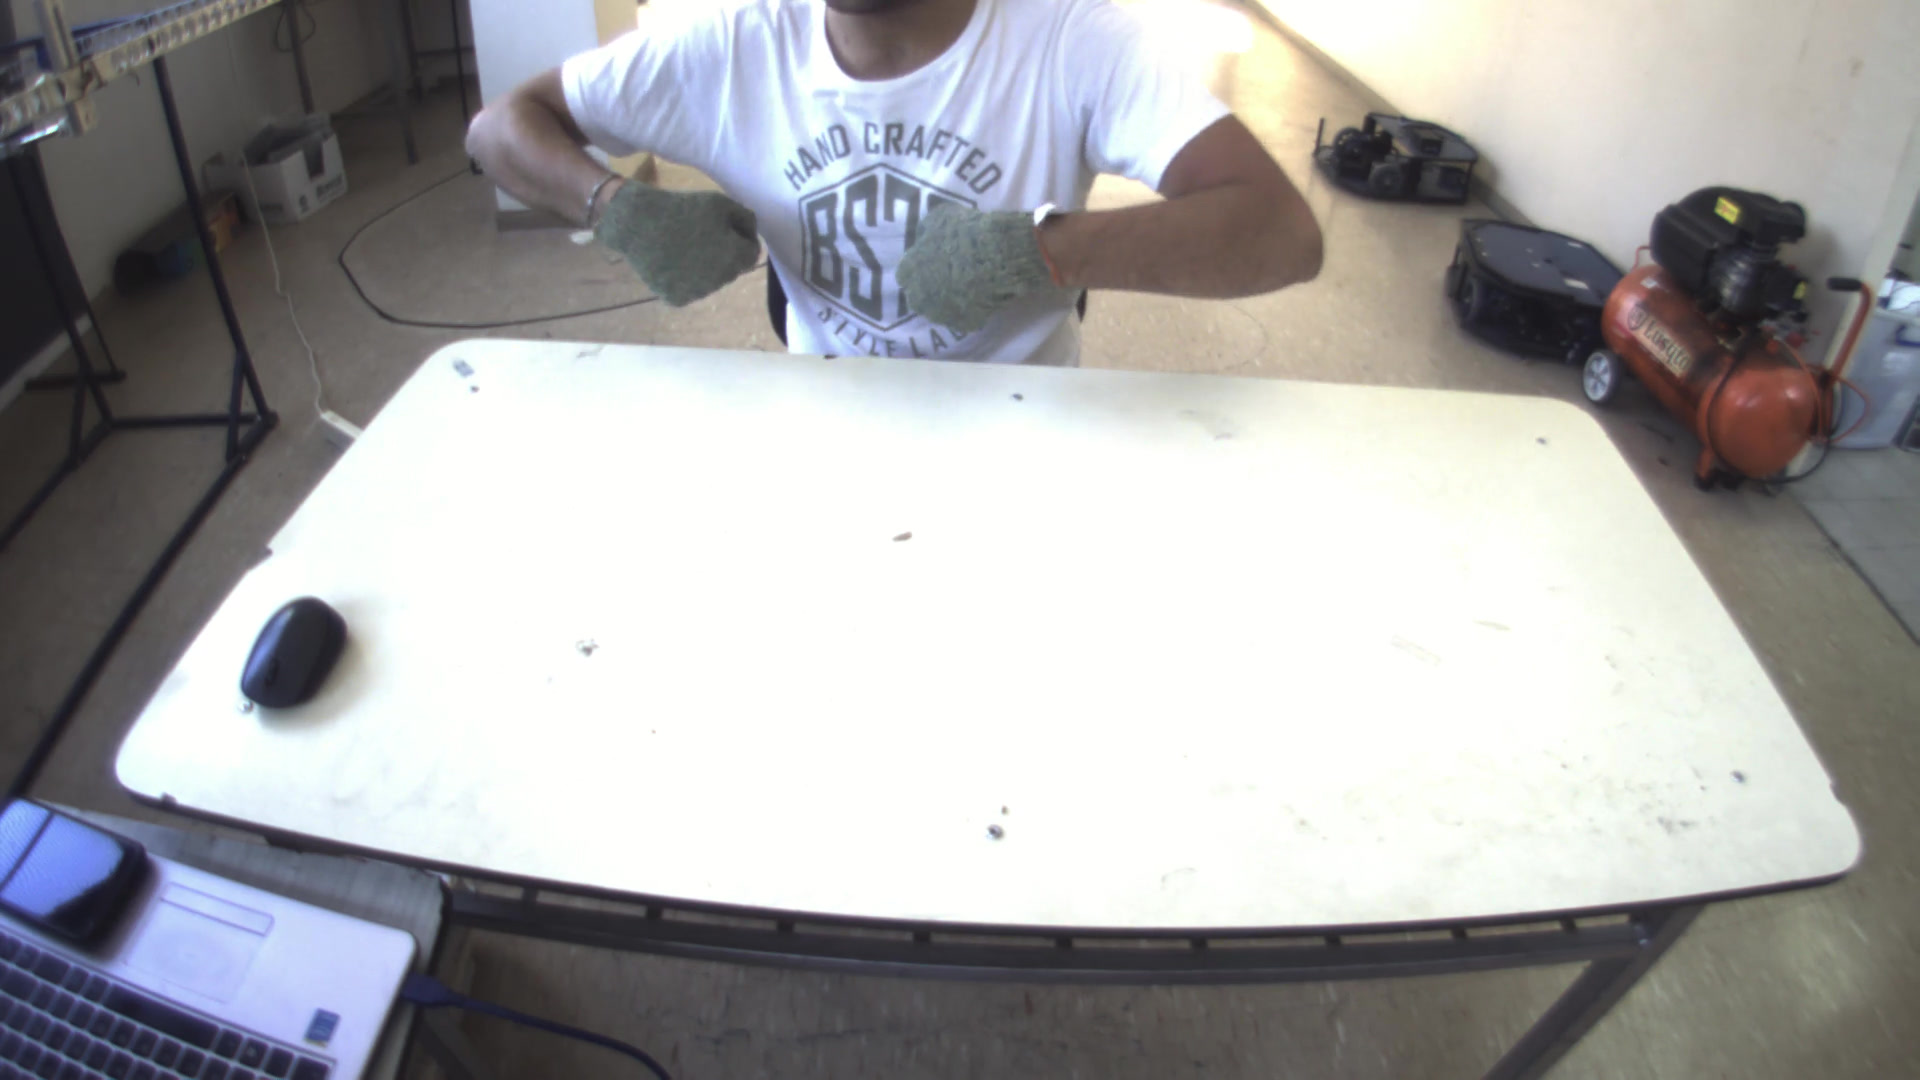hand: (578, 160, 761, 306), (889, 196, 1050, 314)
